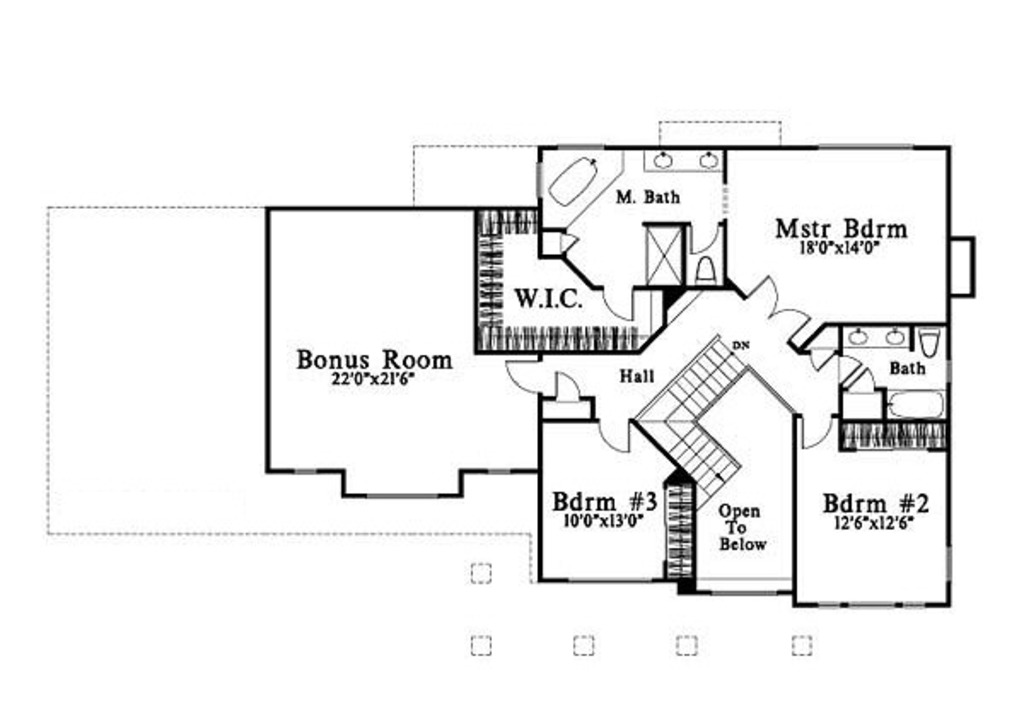door: (746, 275, 814, 342), (495, 350, 541, 396), (541, 364, 584, 405), (593, 416, 634, 451), (601, 288, 638, 324), (800, 414, 835, 451), (687, 222, 726, 254), (809, 344, 836, 377), (846, 368, 877, 391), (839, 354, 861, 382)
large_sink: (912, 319, 940, 362), (694, 254, 720, 285)
small_sink: (638, 149, 727, 174), (844, 327, 909, 348)
stairs: (632, 333, 752, 504)
tub: (537, 150, 629, 214), (889, 393, 942, 421)
window: (814, 597, 925, 611), (364, 492, 446, 503), (939, 544, 959, 580), (703, 589, 785, 597), (289, 465, 324, 479), (483, 465, 517, 478)
